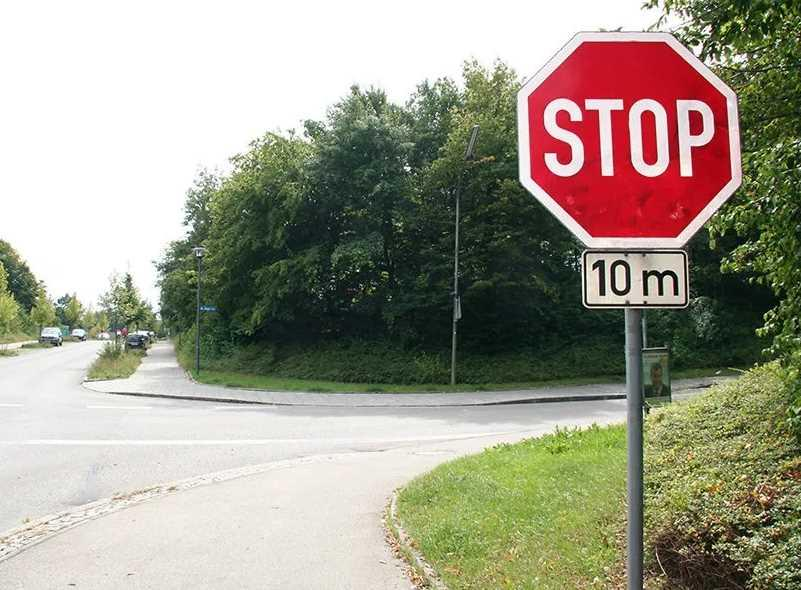Pole: (625, 312, 645, 582)
Sign: (518, 32, 743, 247)
